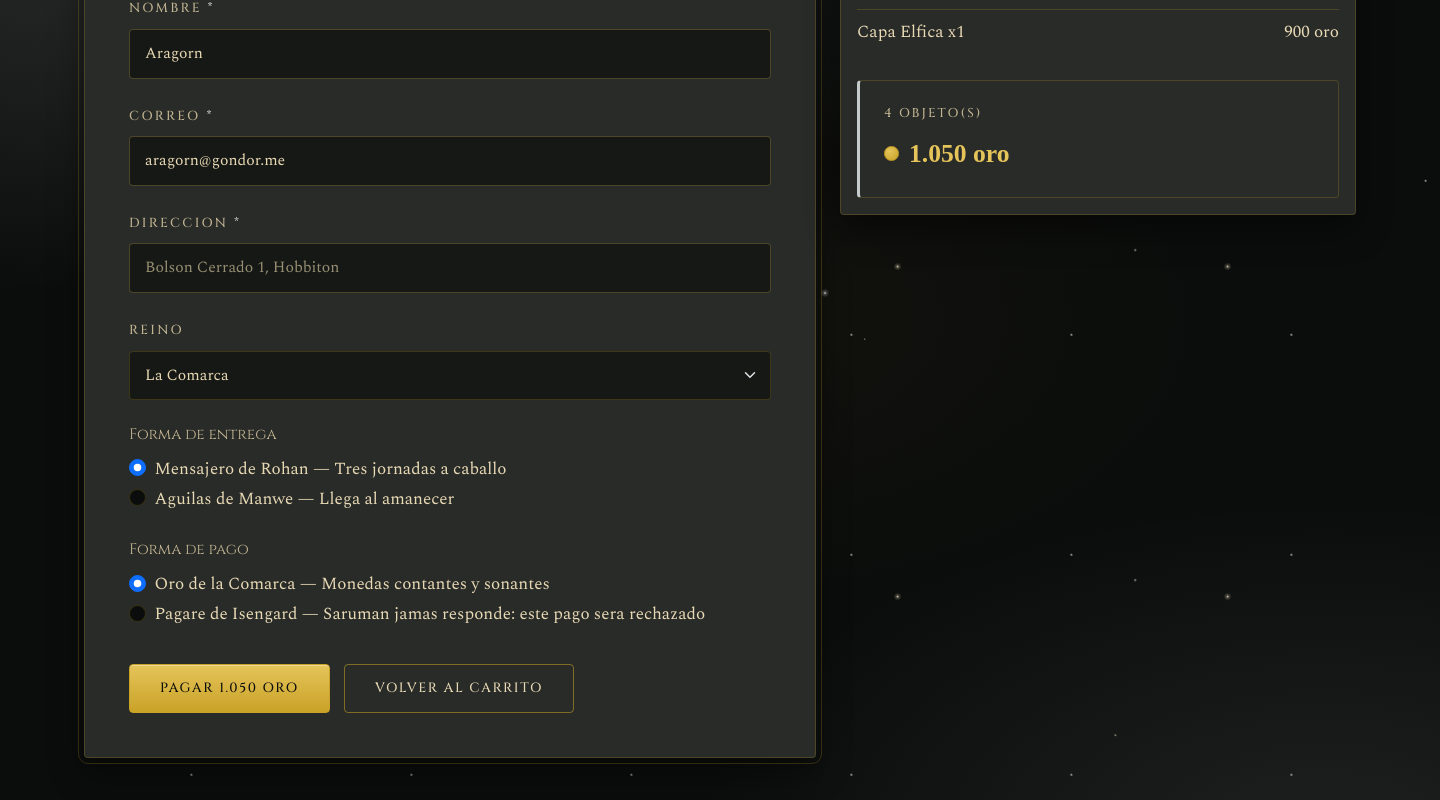
Test: Checkout › el formulario › no deja pagar sin direccion
(page scrolled)
Click the button "Pagar 1.050 oro" at (229, 688), box [129,664,330,713]
(page scrolled)
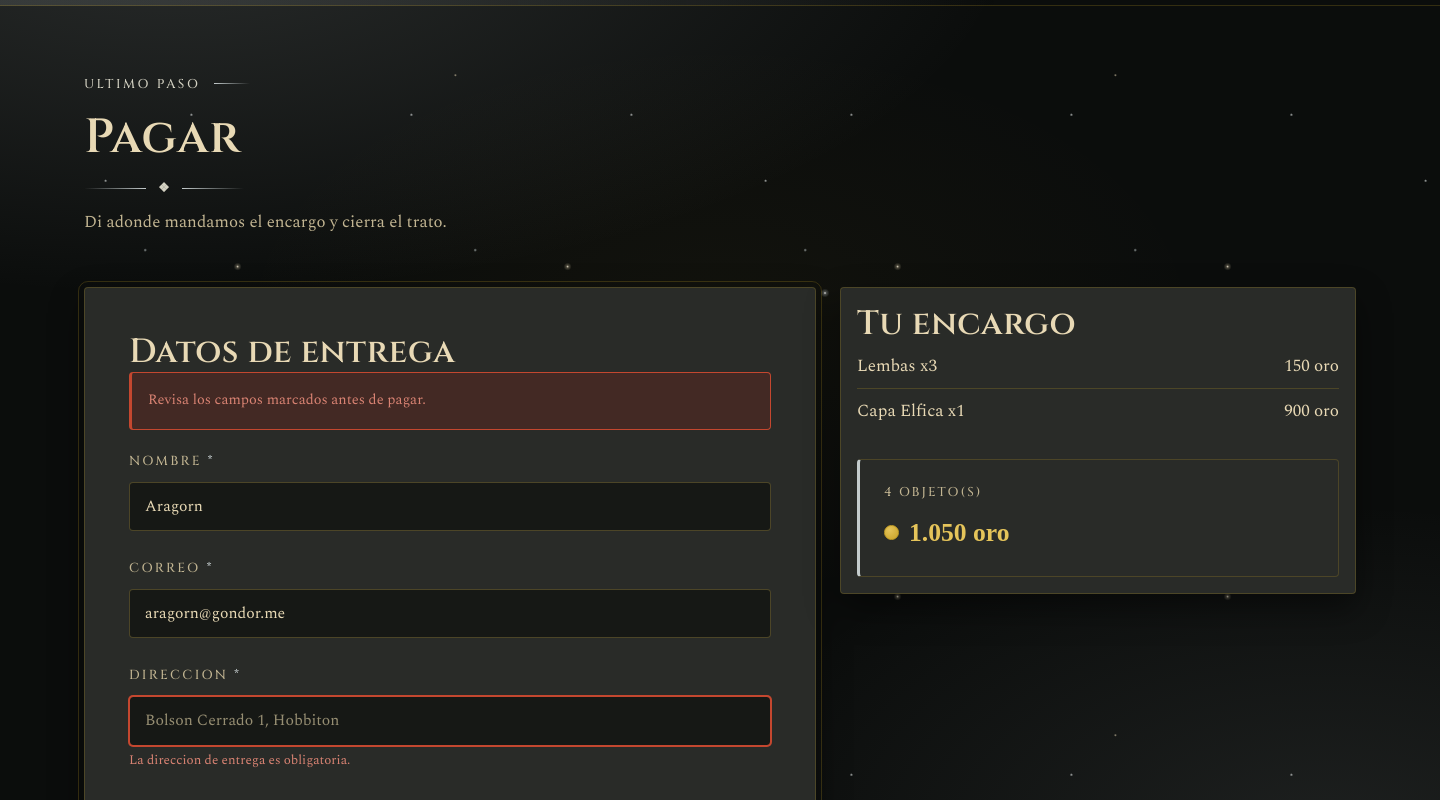
Result: the text "La direccion de entrega es obligatoria." is shown at [129,750,350,770]
Result: the text "Revisa los campos marcados antes de pagar." is shown at [129,372,771,430]
